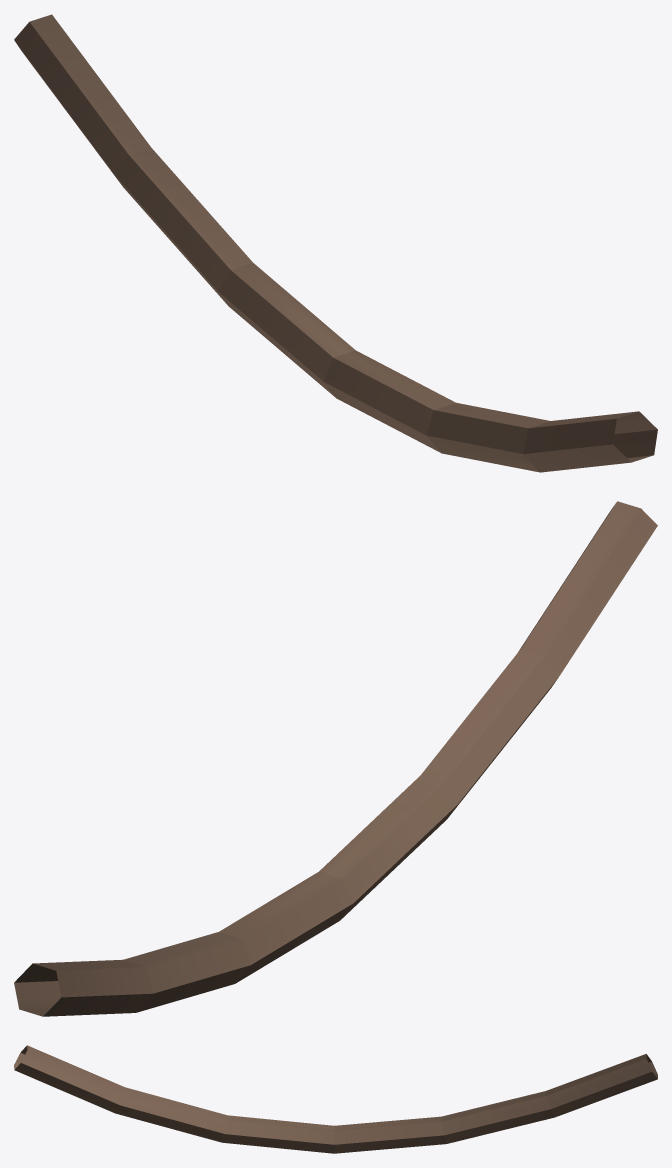
Rendered from Bridge_Rope.fbx.
3 views of the same model, one above another, from view 1: azimuth 30°, elevation 25°; view 2: azimuth 150°, elevation 25°; view 3: azimuth 270°, elevation 25° (orthographic). The views are drawn at different scales.
Visible parts, largest first — view 1: SM_Bridge_03_01b.mo; view 2: SM_Bridge_03_01b.mo; view 3: SM_Bridge_03_01b.mo.
Boxes of the visible parts, x1,y1,x2,y2 form: SM_Bridge_03_01b.mo: (14, 14, 657, 472); SM_Bridge_03_01b.mo: (14, 501, 657, 1016); SM_Bridge_03_01b.mo: (14, 1045, 657, 1153).
Bounding box in the file's own units: 9.33 × 28.12 × 159.
1 material, 1 textured.
